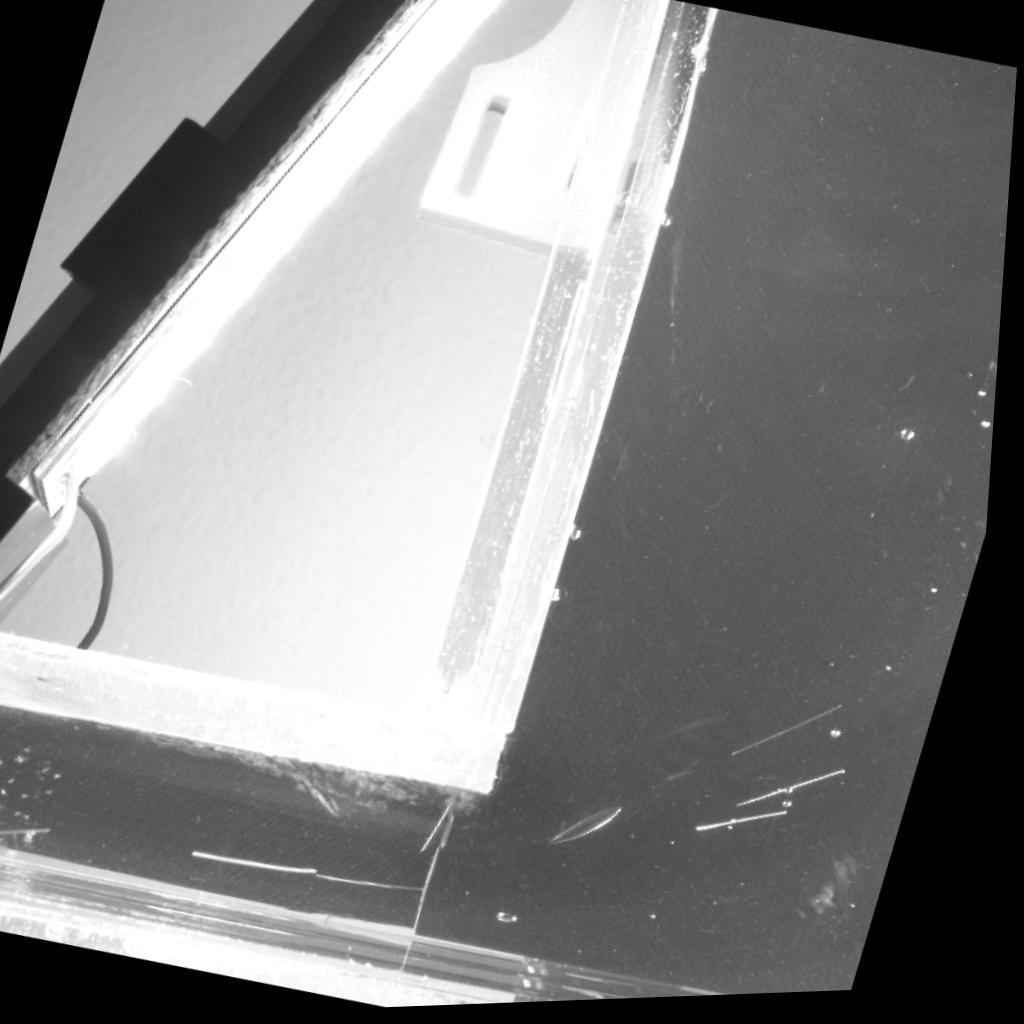Fiber: (738, 705, 856, 765), (744, 772, 857, 815), (202, 851, 330, 882), (704, 811, 798, 839), (326, 874, 434, 897), (428, 804, 470, 858), (0, 825, 60, 838)
